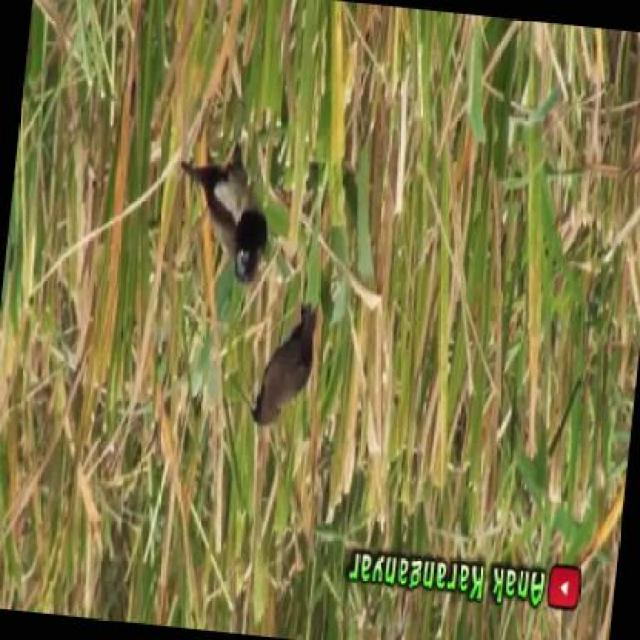Bird: (177, 139, 269, 287), (250, 299, 328, 428)
